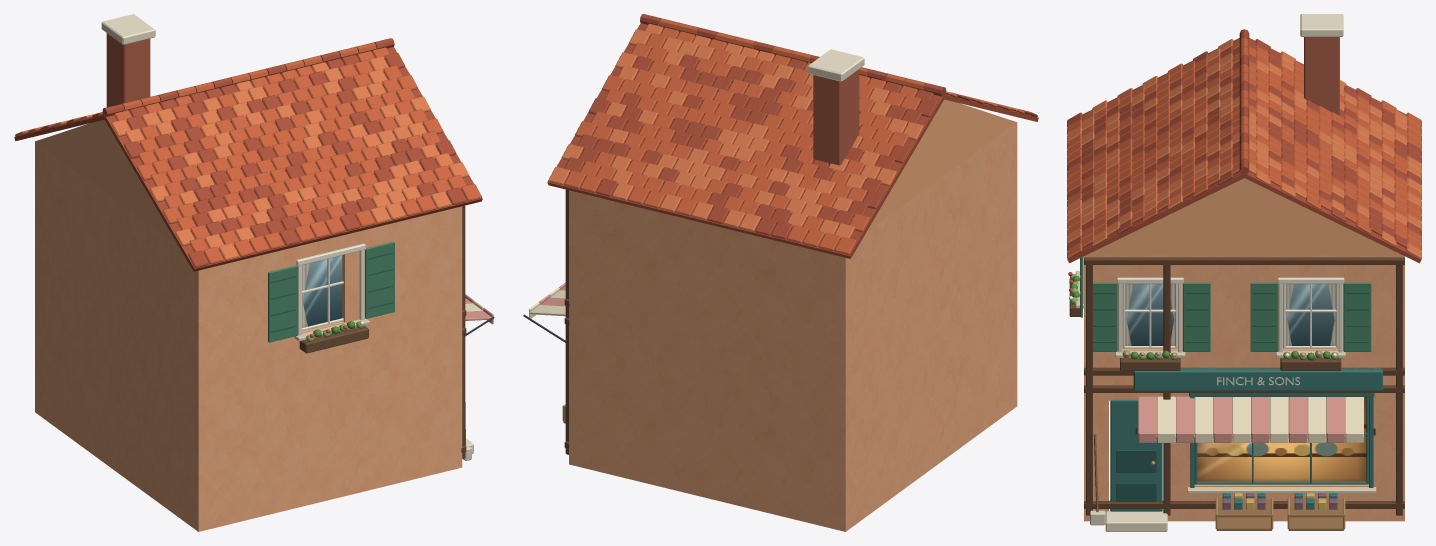
3 renders of one model, left to right at view 1: azimuth 30°, elevation 25°; view 2: azimuth 150°, elevation 25°; view 3: azimuth 270°, elevation 25°, orthographic. The views are drawn at different scales.
Parts seen in each view (by area): view 1: square_salmon, square_terracotta, square_terracotta_dark, square_terracotta_light, square_shutter, square_brick, square_window_pane, square_white, square_limestone_pale, square_timber, square_wood_dark; view 2: square_salmon, square_terracotta, square_terracotta_dark, square_terracotta_light, square_brick, square_limestone_pale, square_timber; view 3: square_salmon, square_terracotta, square_terracotta_dark, square_terracotta_light, square_teal, square_timber, square_shutter, square_window_shop, square_window_pane, square_cloth_rose, square_stripe_cream, square_white (+10 smaller).
Boxes of the visible parts, bbox=[...] form: square_salmon: bbox=[35, 119, 462, 531]; square_terracotta: bbox=[15, 42, 481, 264]; square_terracotta_dark: bbox=[14, 38, 482, 271]; square_terracotta_light: bbox=[53, 56, 468, 260]; square_shutter: bbox=[268, 241, 394, 342]; square_brick: bbox=[106, 33, 150, 107]; square_window_pane: bbox=[302, 255, 342, 327]; square_white: bbox=[296, 243, 365, 335]; square_limestone_pale: bbox=[101, 14, 473, 453]; square_timber: bbox=[461, 205, 466, 458]; square_wood_dark: bbox=[299, 326, 368, 353]; square_salmon: bbox=[569, 99, 1017, 531]; square_terracotta: bbox=[564, 18, 1010, 254]; square_terracotta_dark: bbox=[547, 14, 1038, 258]; square_terracotta_light: bbox=[548, 23, 1024, 239]; square_brick: bbox=[813, 69, 859, 165]; square_limestone_pale: bbox=[808, 49, 864, 81]; square_timber: bbox=[564, 189, 569, 454]; square_salmon: bbox=[1084, 178, 1404, 521]; square_terracotta: bbox=[1067, 38, 1421, 258]; square_terracotta_dark: bbox=[1067, 29, 1421, 263]; square_terracotta_light: bbox=[1067, 39, 1421, 258]; square_teal: bbox=[1110, 367, 1382, 511]; square_timber: bbox=[1084, 257, 1404, 515]; square_shutter: bbox=[1080, 257, 1371, 351]; square_window_shop: bbox=[1197, 397, 1366, 481]; square_window_pane: bbox=[1125, 284, 1335, 345]; square_cloth_rose: bbox=[1138, 396, 1345, 442]; square_stripe_cream: bbox=[1157, 396, 1363, 442]; square_white: bbox=[1083, 256, 1344, 352].
Size of the model in its own units: 6.87 by 7.93 by 6.41.
Materials: 32 (3 with a texture image).
